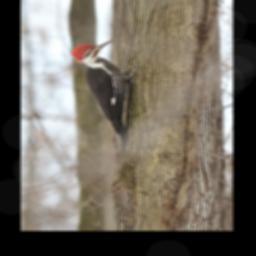Woodpecker: (70, 40, 142, 159)
